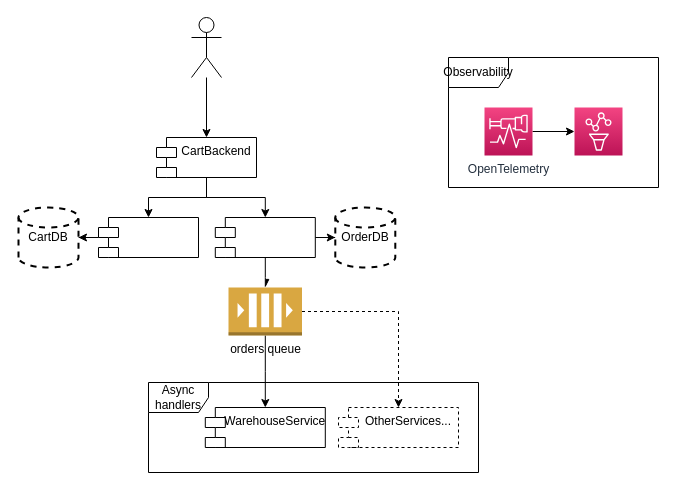
This 676x490 diagram has some shape labels left out. Each missing label, with the centre of its shape:
"Actor" goes at (206,47).
"CartService" goes at (148,237).
"OrderService" goes at (264,237).
"Prometheus" goes at (598,131).
